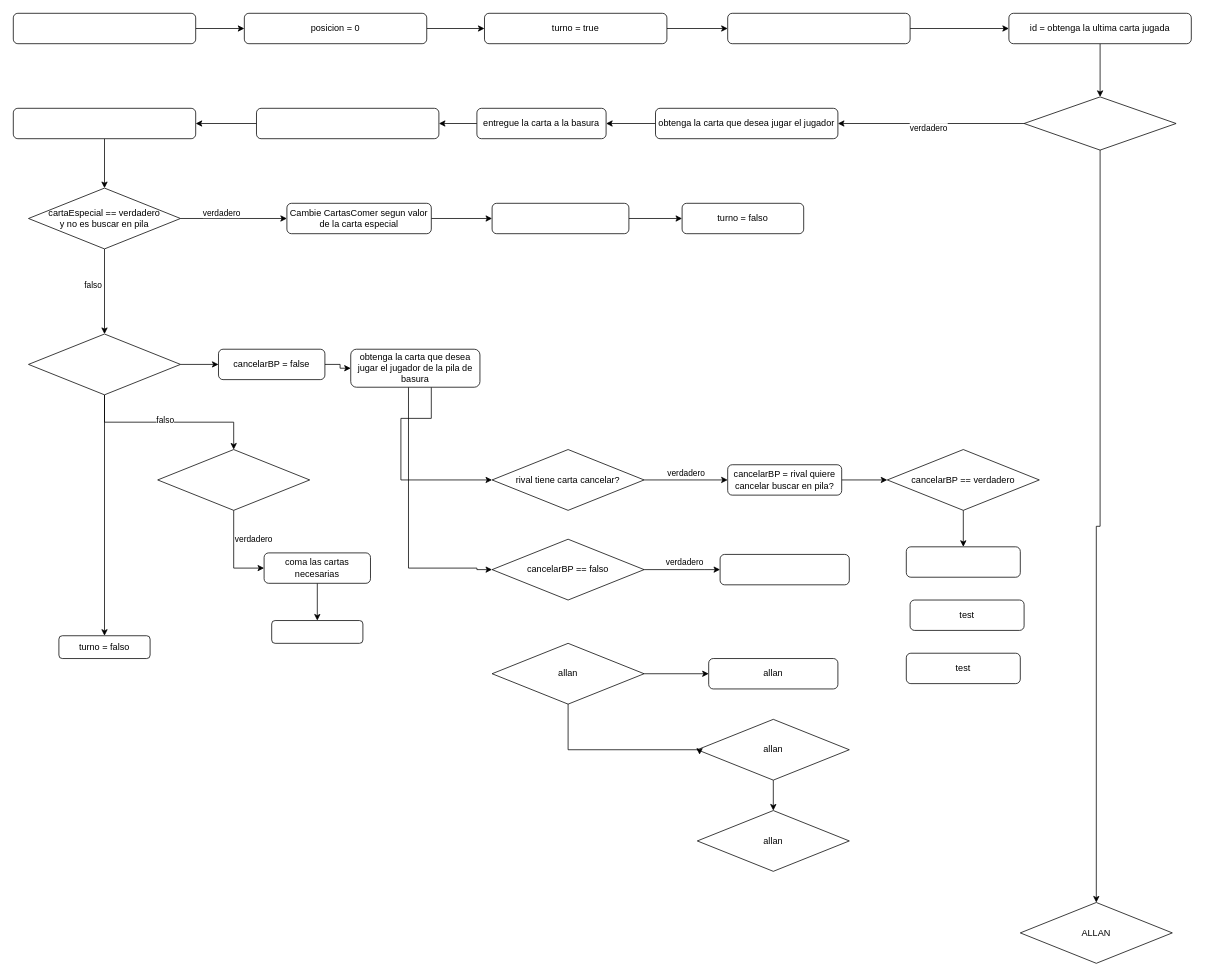
Image size: 1205x977. Some labels were removed from this diagram. The shapes that lost their labels are listed below. From the top down, each one's centre as x and y in pixels, then its label:
[104,28]: cartasComer = obtenga las cartas que debe comer del objeto juego
[818,28]: esCartaEspecial= false
[104,123]: id= obtenga la ultima carta jugada
[347,123]: cartaEspecial = evalue si la ultima carta jugada es especial
[1099,123]: hay cartas validas para jugar?
[560,218]: Escoja el color que se debe jugar el siguiente turno
[104,364]: cartaEspecial == verdadero y es buscar en pila
[233,479]: cartasComer >0
[784,569]: jugar la carta
[963,561]: agregue cancelar a la basura
[317,631]: cartasComer = 0
